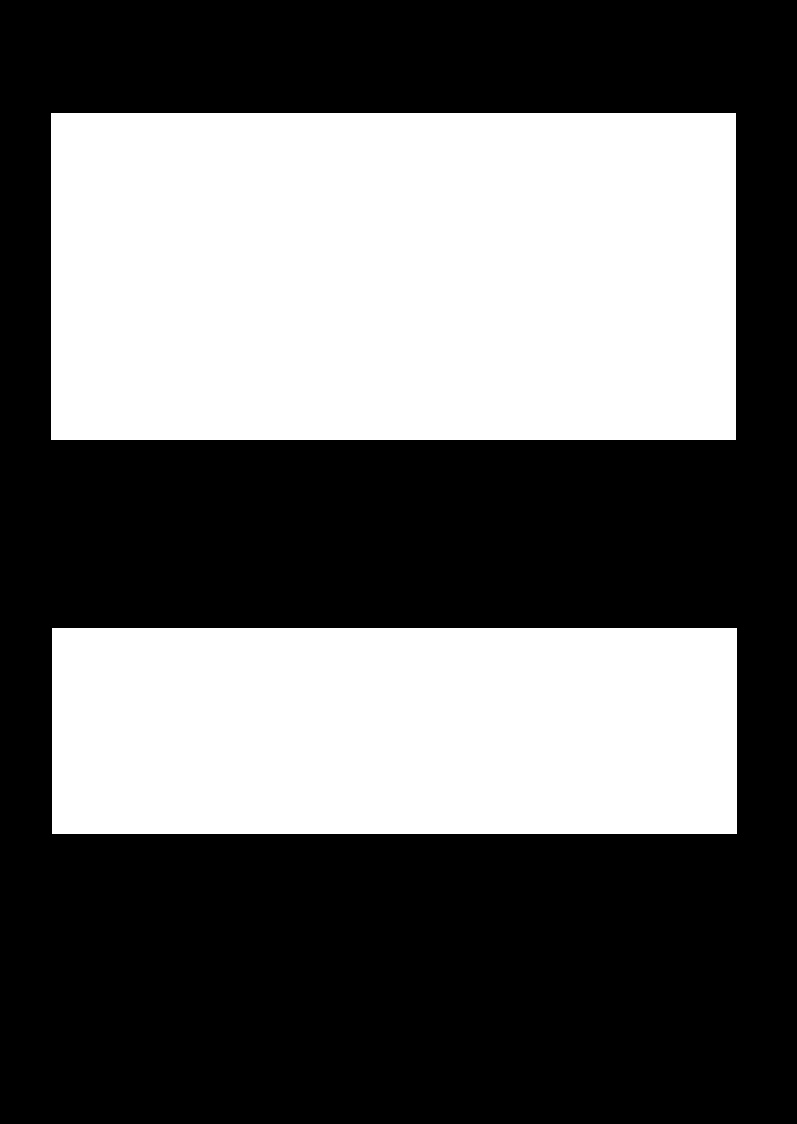table: (51, 113, 735, 439), (52, 628, 736, 833)
